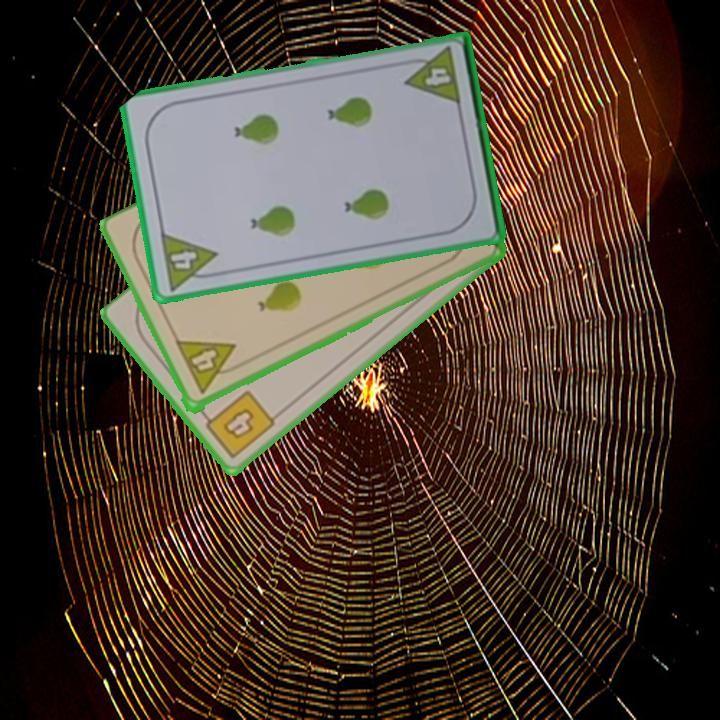4b: (198, 386, 279, 462)
4p: (172, 337, 246, 399), (156, 229, 223, 294), (399, 43, 464, 108)
